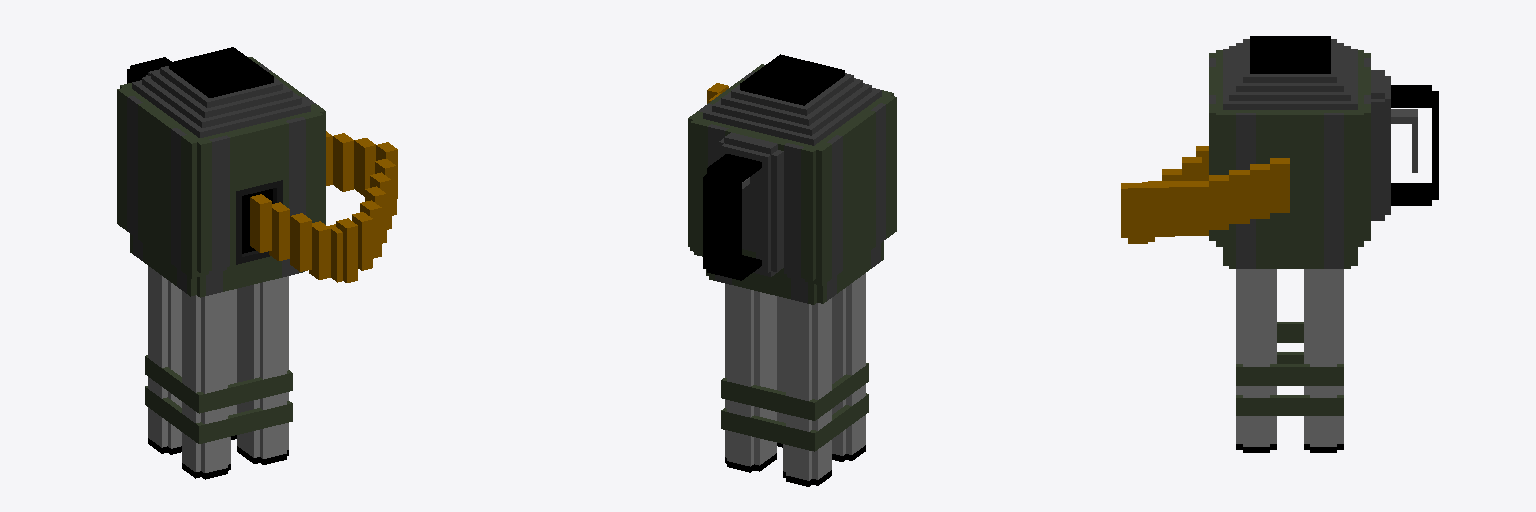
The picture shows the model from 3 angles: view 1: azimuth 30°, elevation 25°; view 2: azimuth 150°, elevation 25°; view 3: azimuth 270°, elevation 25°; orthographic projection.
Visible parts, largest first — view 1: object 1; view 2: object 1; view 3: object 1.
Part boxes in pixels (x1,y1,x2,y2): object 1: (117,47,397,479); object 1: (688,54,896,486); object 1: (1121,36,1438,452).
Bounding box in the file's own units: 3.3 × 6.2 × 4.7.
Materials: 1 (1 with a texture image).